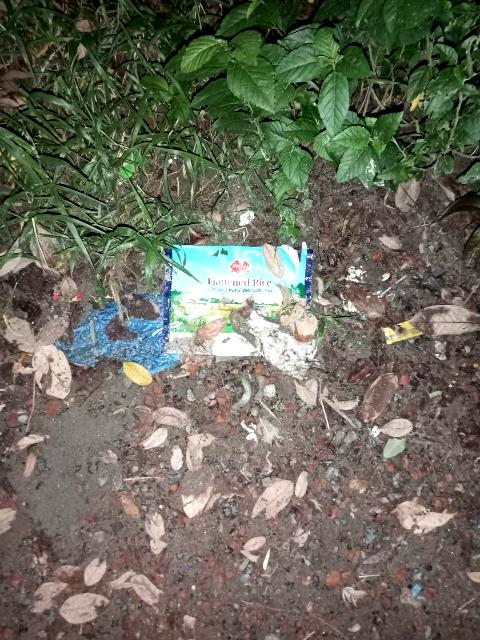packet: (156, 227, 327, 379)
